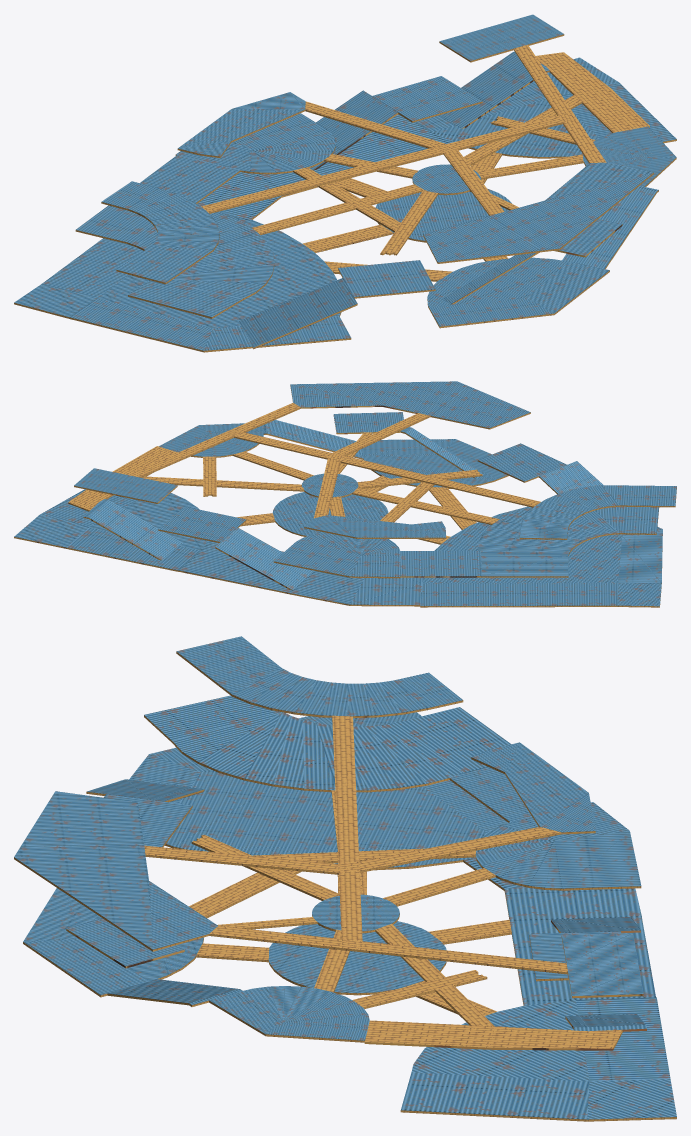
The model's file is grandcanyon_blending.fbx.
3 views of the same model, one above another, from view 1: azimuth 30°, elevation 25°; view 2: azimuth 150°, elevation 25°; view 3: azimuth 270°, elevation 25° (orthographic). The views are drawn at different scales.
Parts seen in each view (by area): view 1: layer1, Layer2.001, layer3_2; view 2: layer1, Layer2.001, layer3_2; view 3: layer1, Layer2.001, layer3_2.
Boxes of the visible parts, x1,y1,x2,y2 form: layer1: [14, 51, 676, 352]; Layer2.001: [75, 52, 676, 318]; layer3_2: [101, 14, 653, 284]; layer1: [14, 420, 662, 607]; Layer2.001: [68, 412, 659, 578]; layer3_2: [74, 381, 676, 539]; layer1: [23, 712, 676, 1121]; Layer2.001: [66, 695, 641, 1050]; layer3_2: [14, 636, 643, 998].
Size of the model in its own units: 16947 by 1641 by 11212.
